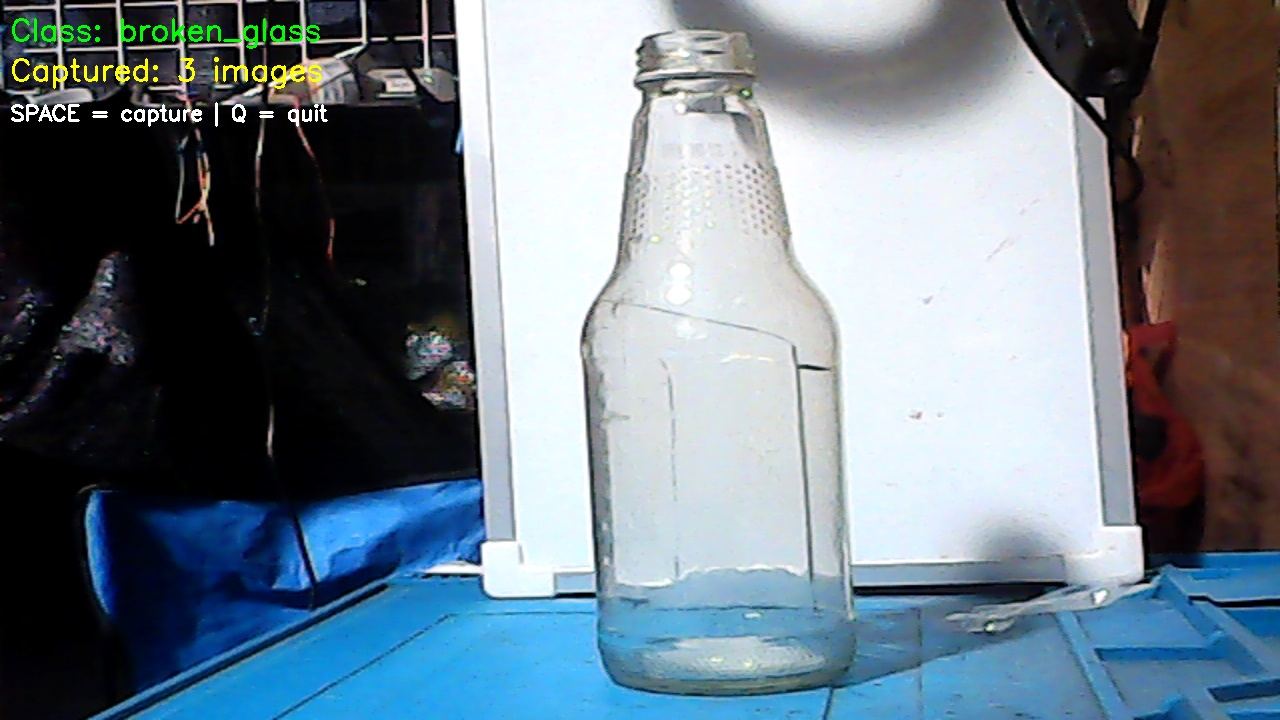broken_glass: (579, 17, 855, 692)
